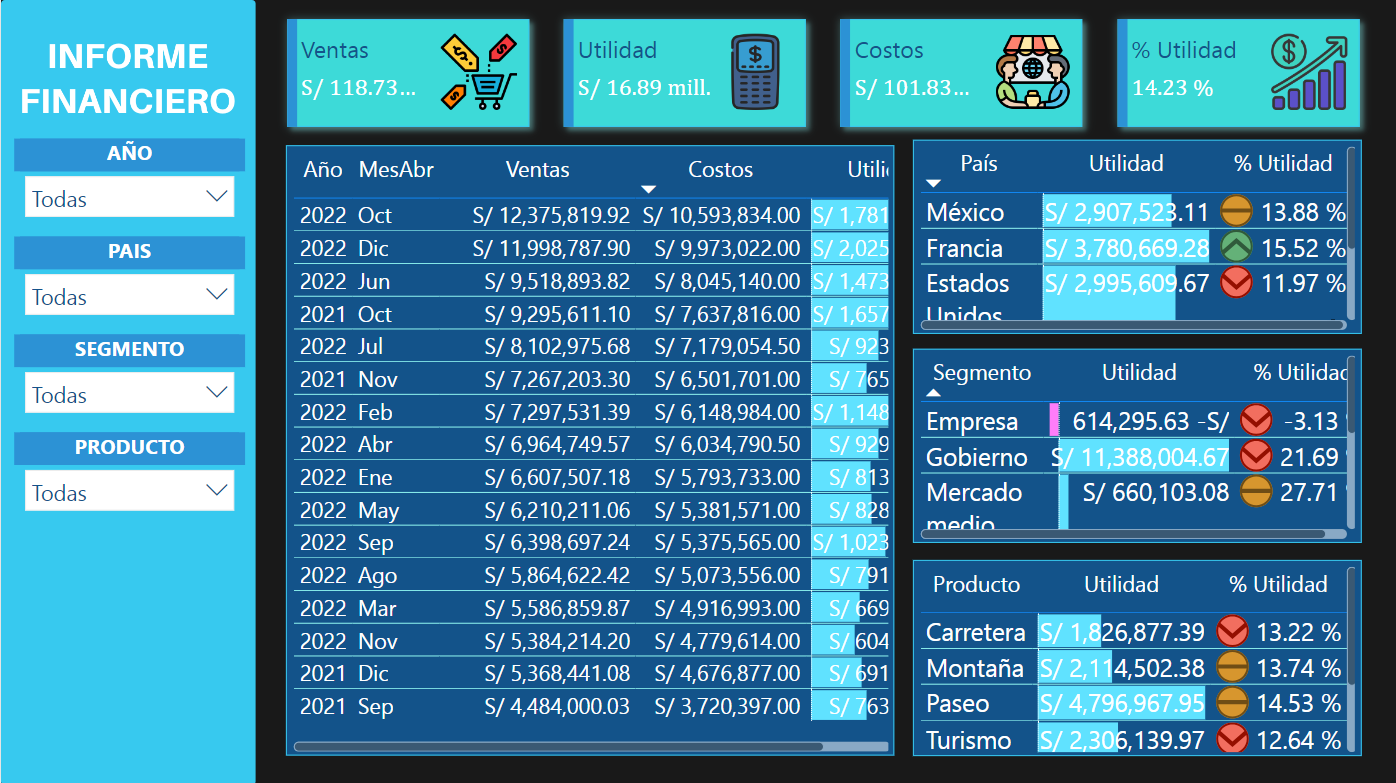

This screenshot's page, from the dashboard's own definition file:
{"tool":"powerbi","page":{"name":"Página 2","canvas":[1280,720],"ordinal":1},"visuals":[{"type":"slicer","title":"AÑO","fields":{"Values":["Calendario.Año"]},"box":[11.7,126.7,211.7,90],"z":0},{"type":"slicer","title":"PAIS","fields":{"Values":["Informe.País"]},"box":[11.7,216.7,211.7,90],"z":2000},{"type":"slicer","title":"SEGMENTO","fields":{"Values":["Informe.Segmento"]},"box":[11.7,306.7,211.7,90],"z":3000},{"type":"slicer","title":"PRODUCTO","fields":{"Values":["Informe.Producto"]},"box":[11.7,396.7,211.7,90],"z":4000},{"type":"cardVisual","fields":{"Data":["MEDIDAS.Ventas","MEDIDAS.Utilidad","MEDIDAS.Costos","MEDIDAS.% Utilidad"]},"box":[245,0,1018.3,133.3],"z":5000},{"type":"tableEx","fields":{"Values":["Informe.País","MEDIDAS.Utilidad","MEDIDAS.% Utilidad"]},"box":[836.7,128.3,411.7,178.3],"z":7000},{"type":"tableEx","fields":{"Values":["Informe.Segmento","MEDIDAS.Utilidad","MEDIDAS.% Utilidad"]},"box":[836.7,320,411.7,178.3],"z":7001},{"type":"tableEx","fields":{"Values":["Informe.Producto","MEDIDAS.Utilidad","MEDIDAS.% Utilidad"]},"box":[836.7,513.3,411.7,180],"z":7002},{"type":"tableEx","fields":{"Values":["Calendario.Año","Calendario.MesAbr","MEDIDAS.Ventas","MEDIDAS.Costos","MEDIDAS.Utilidad"]},"box":[261.7,133.3,558.3,560],"z":7003}]}

Visuals, with their boxes in screenshot pixels (x1, y1, x2, y2), scaled from the page's 1280x720 canvas onto the 1396x783 screenshot:
"AÑO" slicer: [x1=13, y1=138, x2=244, y2=236]
"PAIS" slicer: [x1=13, y1=236, x2=244, y2=334]
"SEGMENTO" slicer: [x1=13, y1=334, x2=244, y2=431]
"PRODUCTO" slicer: [x1=13, y1=431, x2=244, y2=529]
cardVisual - MEDIDAS.Ventas x MEDIDAS.Utilidad: [x1=267, y1=0, x2=1378, y2=145]
tableEx - Informe.País x MEDIDAS.Utilidad: [x1=913, y1=140, x2=1362, y2=333]
tableEx - Informe.Segmento x MEDIDAS.Utilidad: [x1=913, y1=348, x2=1362, y2=542]
tableEx - Informe.Producto x MEDIDAS.Utilidad: [x1=913, y1=558, x2=1362, y2=754]
tableEx - Calendario.Año x Calendario.MesAbr: [x1=285, y1=145, x2=894, y2=754]
